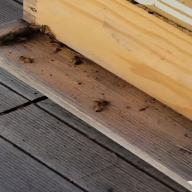Bee: (90, 95, 120, 117), (12, 52, 44, 66)
